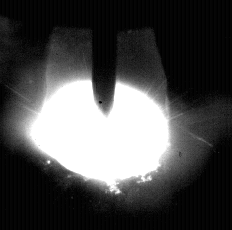arame: (93, 0, 117, 116)
poca: (32, 0, 169, 230)
